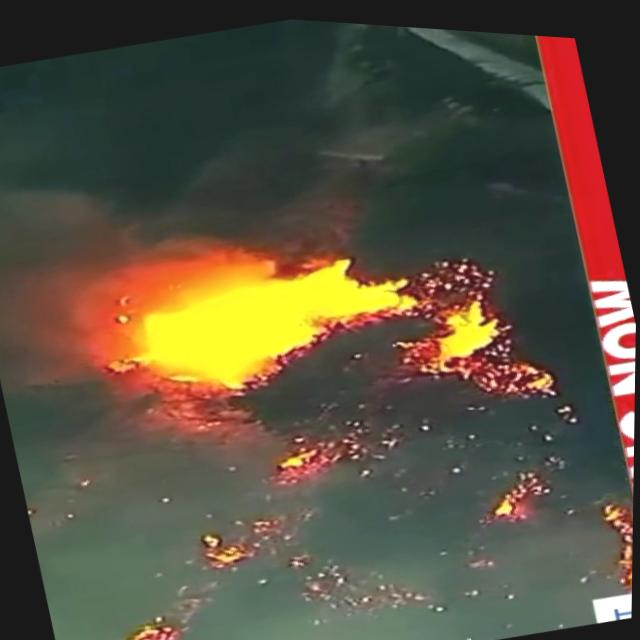fire: (41, 155, 540, 483)
smoke: (0, 218, 79, 550)
